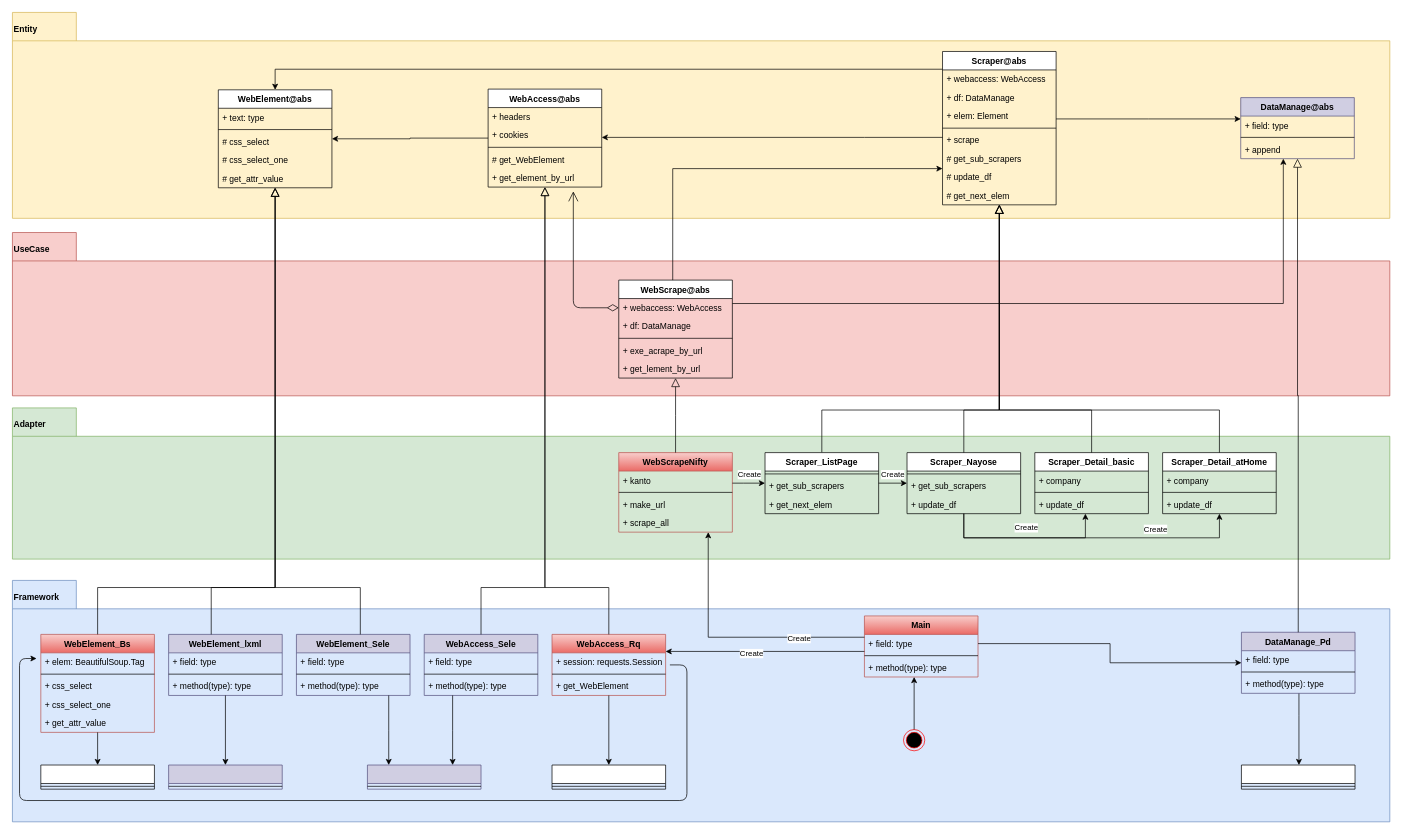
Image size: 1402x834. Some labels were removed from this diagram. The centre of each missing label's shape, as x and y in pixels:
"BeautifulSoup" goes at pixel 97 776.
"lxml" goes at pixel 225 776.
"pandas.DataFrame" goes at pixel 1298 776.
"requests.Session" goes at pixel 608 776.
"Selenium" goes at pixel 424 776.
